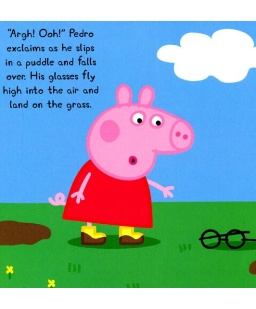Peppa: (46, 84, 194, 249)
